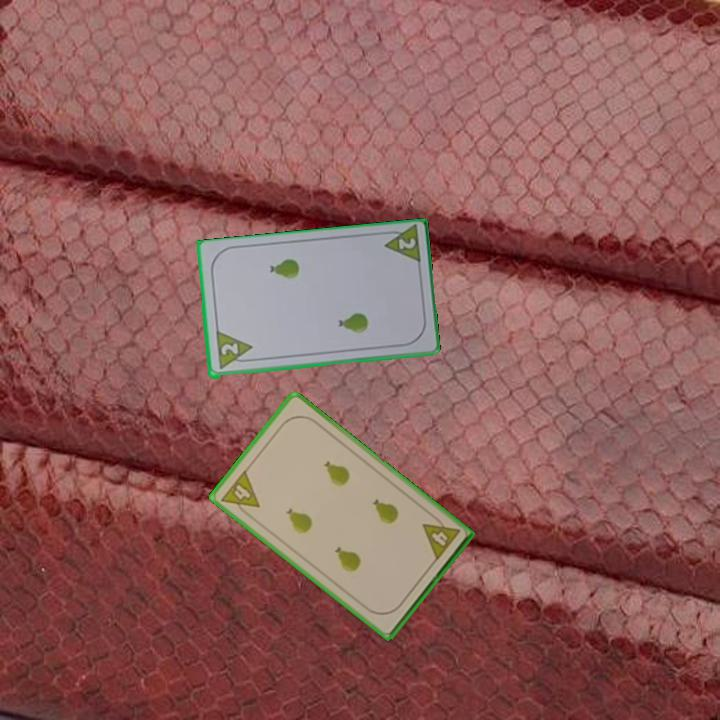2p: (217, 340, 241, 359), (394, 235, 418, 253)
4p: (217, 466, 262, 521), (419, 511, 463, 564)
